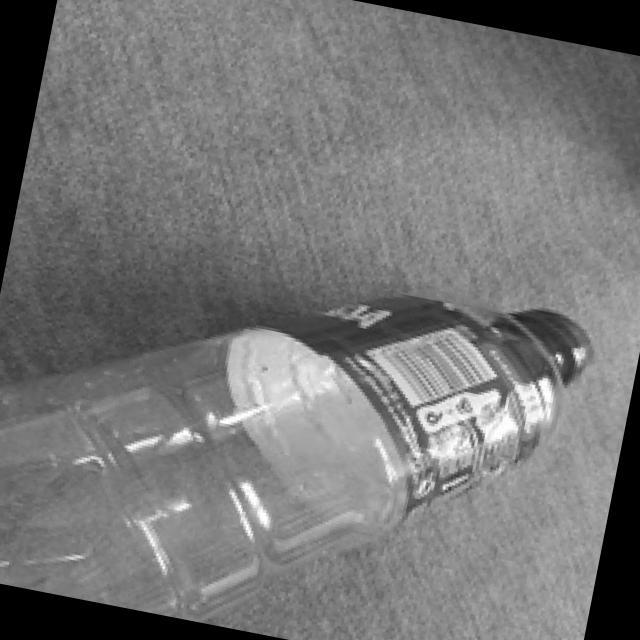good: (0, 171, 610, 640)
